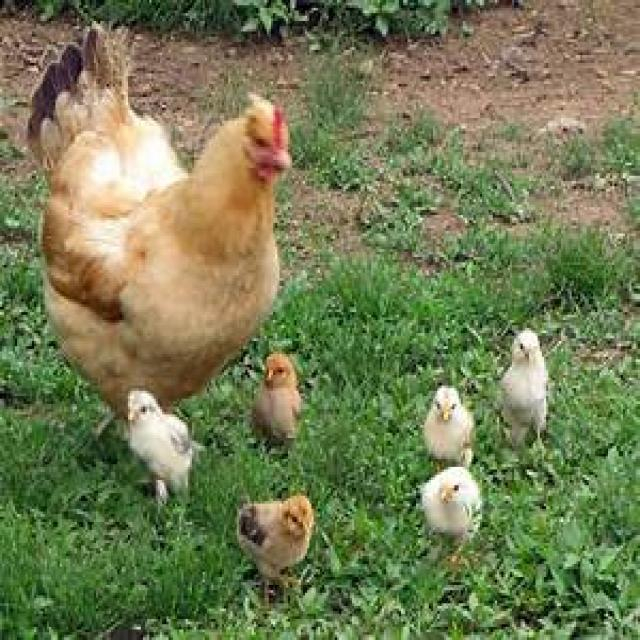hen: (28, 26, 291, 417)
